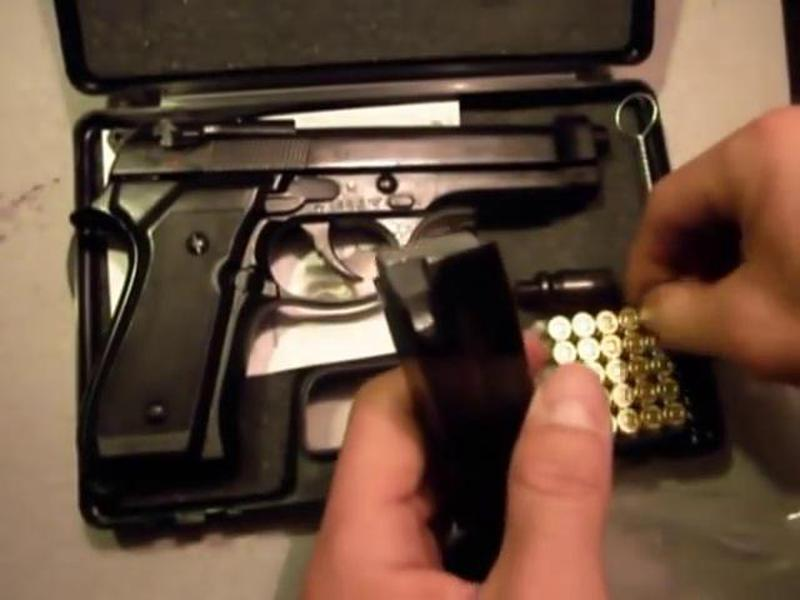Pistola: (74, 108, 640, 466)
